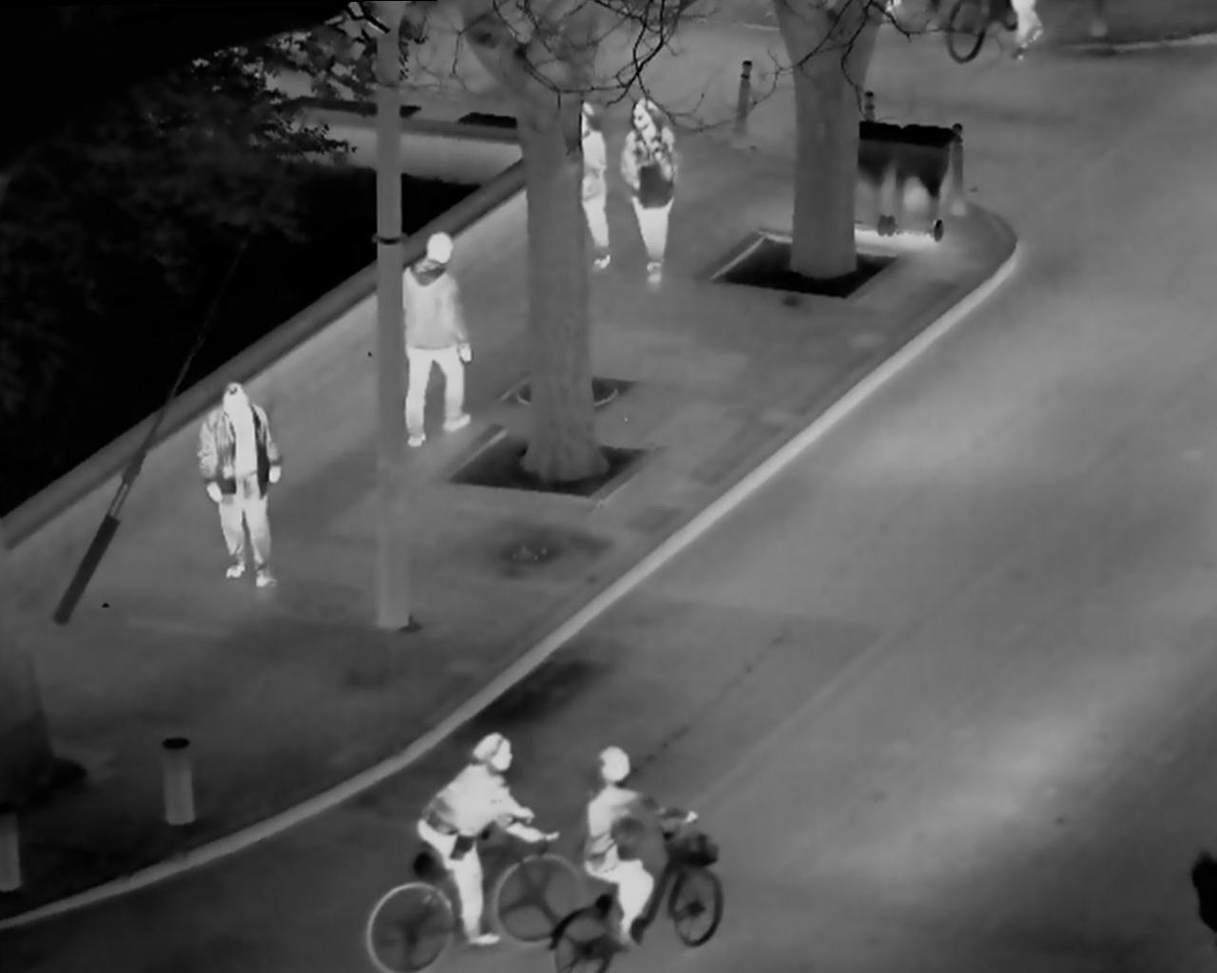person: (392, 714, 542, 961), (568, 717, 704, 959), (184, 374, 298, 604), (396, 218, 476, 449), (611, 87, 693, 292), (556, 91, 623, 268)
